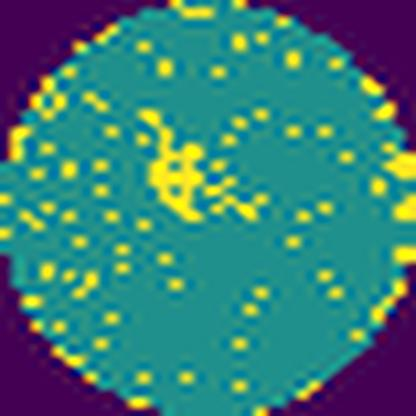Loc: (141, 104, 205, 223)
